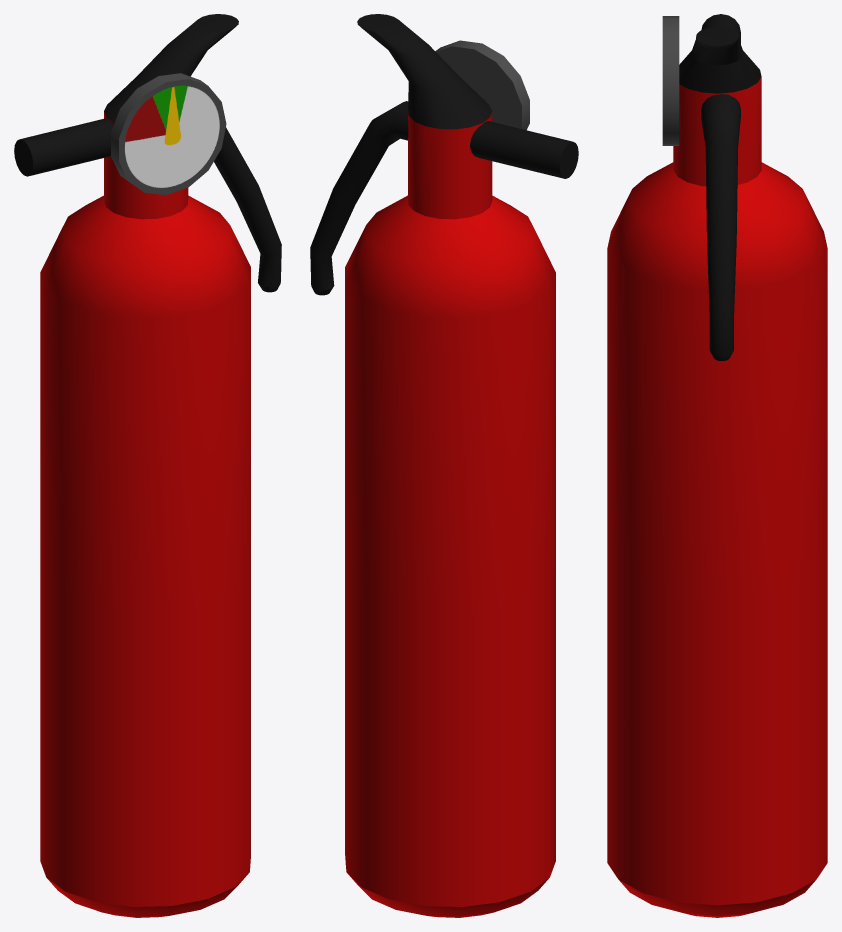
The model's file is fireExtinguisher.fbx.
3 renders of one model, left to right at view 1: azimuth 30°, elevation 25°; view 2: azimuth 150°, elevation 25°; view 3: azimuth 270°, elevation 25°, orthographic. The views are drawn at different scales.
Visible parts, largest first — view 1: pCylinder1, pCylinder2, pCylinder3; view 2: pCylinder1, pCylinder3, pCylinder2; view 3: pCylinder1, pCylinder3, pCylinder2.
Boxes of the visible parts, x1,y1,x2,y2 form: pCylinder1: (40, 14, 250, 917); pCylinder2: (111, 73, 226, 194); pCylinder3: (14, 118, 281, 292); pCylinder1: (345, 14, 555, 917); pCylinder3: (310, 101, 578, 295); pCylinder2: (435, 40, 529, 130); pCylinder1: (607, 27, 827, 917); pCylinder3: (701, 14, 740, 360); pCylinder2: (662, 16, 679, 145).
Size of the model in its own units: 3.05 by 9.65 by 2.17.
Materials: 1 (1 with a texture image).
